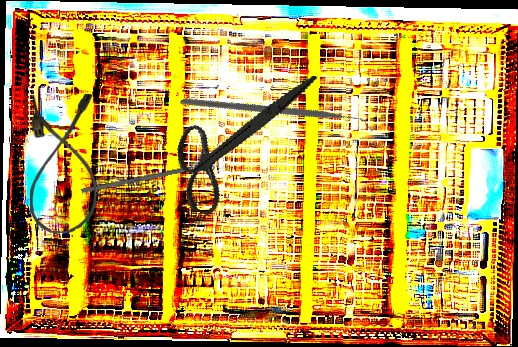Cannula: (30, 94, 96, 233)
Chopper: (178, 29, 375, 203)
Iris Scissors: (161, 43, 319, 235)
Pusher: (81, 159, 221, 194)
